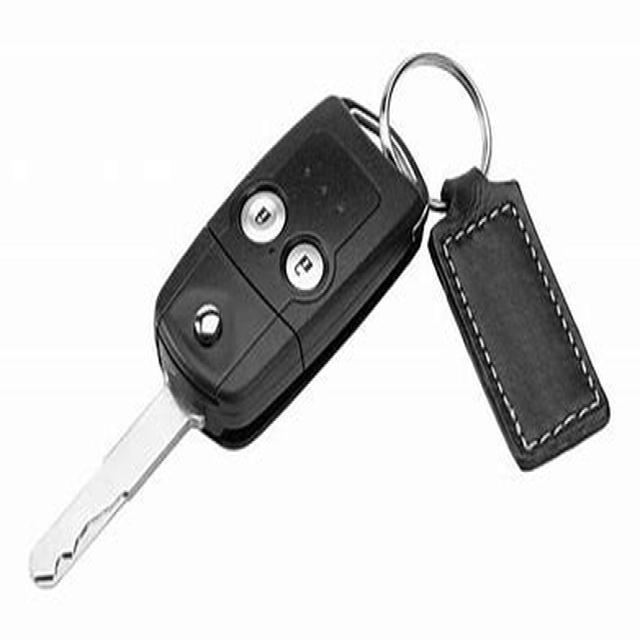key: (19, 62, 496, 584)
